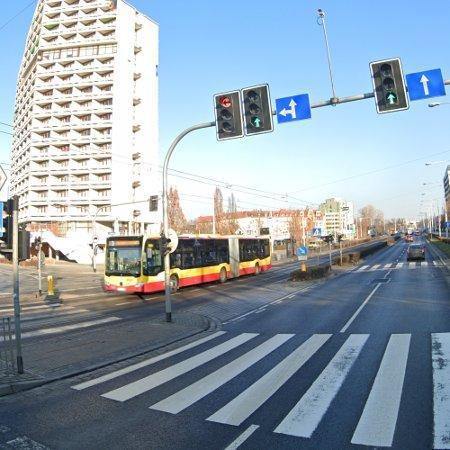crosswalks: (69, 319, 449, 445)
